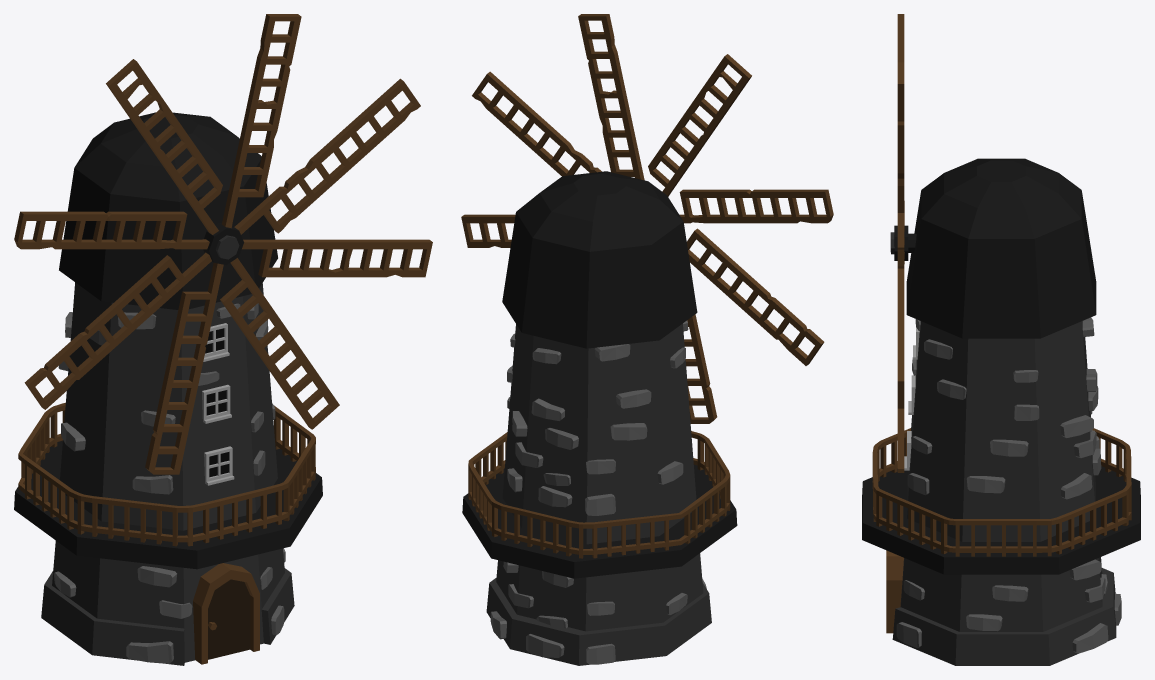
The model's file is TowerWindmill.obj.
The picture shows the model from 3 angles, left to right: view 1: azimuth 30°, elevation 25°; view 2: azimuth 150°, elevation 25°; view 3: azimuth 270°, elevation 25°; orthographic projection. The views are drawn at different scales.
Parts seen in each view (by area): view 1: TowerWindmill_TowerWindmill.004; view 2: TowerWindmill_TowerWindmill.004; view 3: TowerWindmill_TowerWindmill.004.
Part boxes in pixels (x1,y1,x2,y2): TowerWindmill_TowerWindmill.004: (14, 14, 432, 665); TowerWindmill_TowerWindmill.004: (461, 14, 833, 665); TowerWindmill_TowerWindmill.004: (862, 14, 1140, 665).
Bounding box in the file's own units: 7.92 × 11.41 × 4.99.
